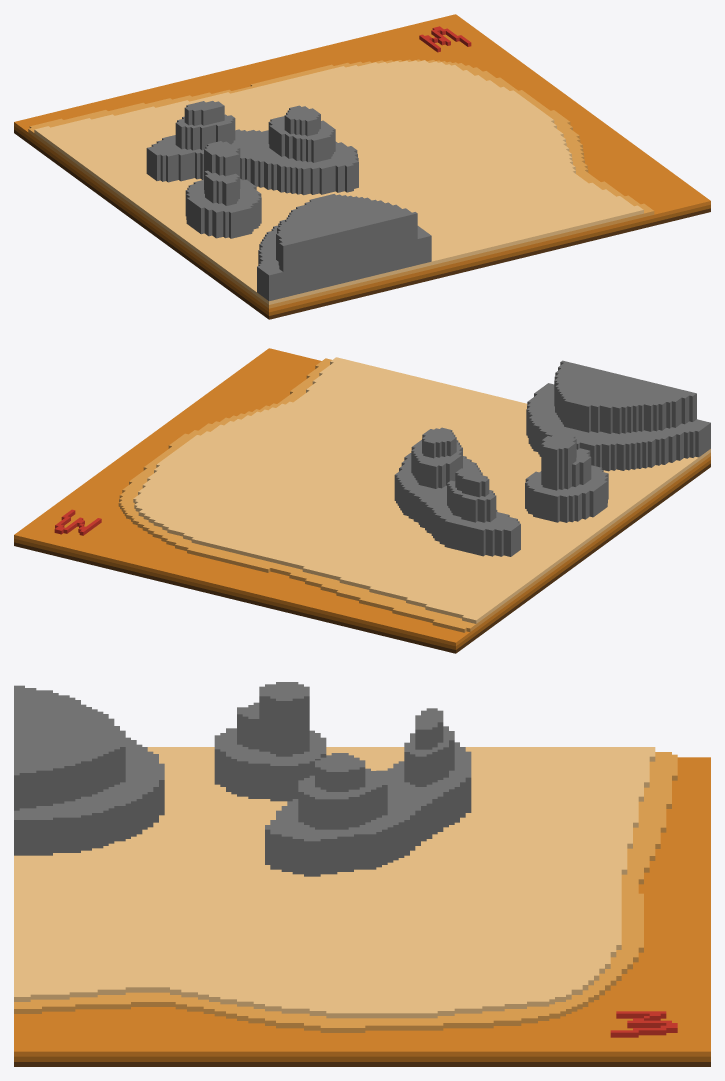
File: Terrain 3.obj
3 renders of one model, top to bottom at view 1: azimuth 30°, elevation 25°; view 2: azimuth 150°, elevation 25°; view 3: azimuth 270°, elevation 25°, orthographic. The views are drawn at different scales.
Visible parts, largest first — view 1: Terrain 3; view 2: Terrain 3; view 3: Terrain 3.
Boxes of the visible parts, x1,y1,x2,y2 form: Terrain 3: (14,14,710,319); Terrain 3: (14,348,710,653); Terrain 3: (14,682,710,1066).
Bounding box in the file's own units: 125 × 23 × 125.
1 material, 1 textured.
